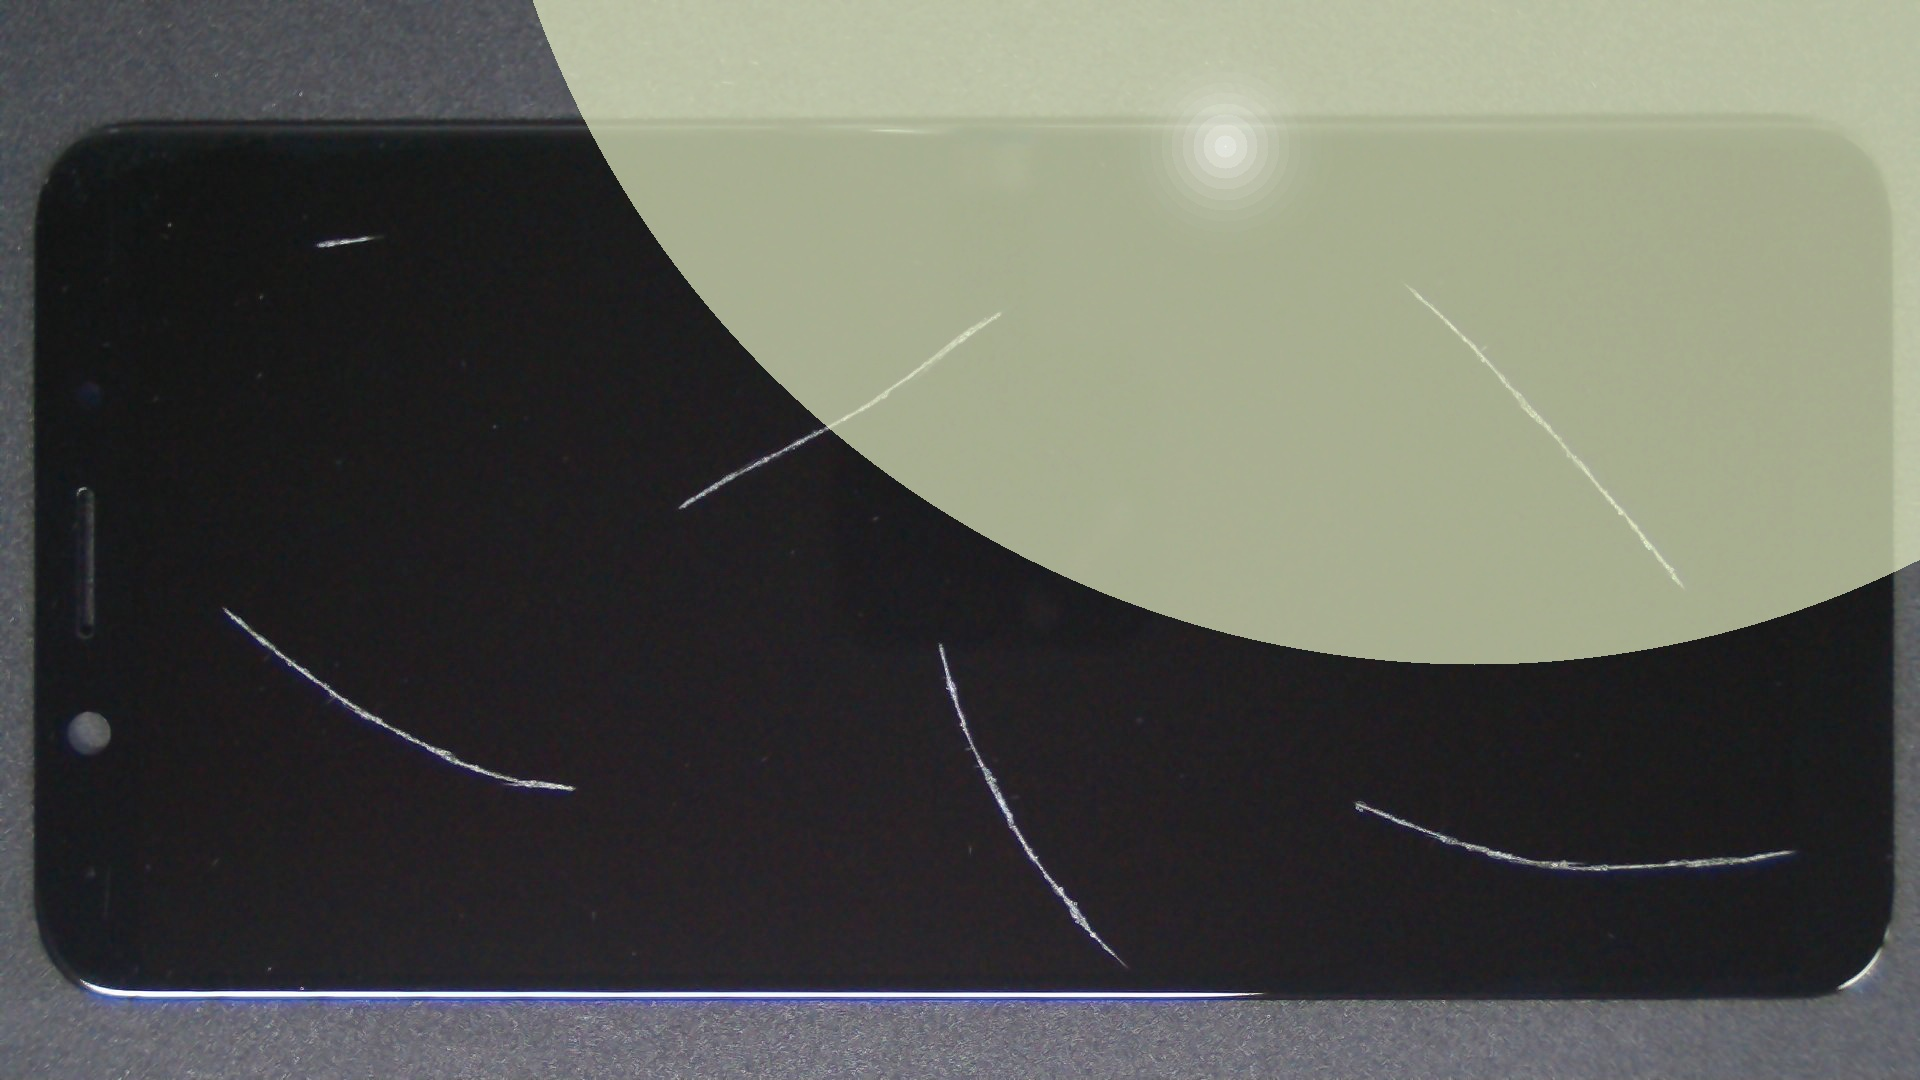oil: (678, 397, 1920, 1080), (469, 320, 1408, 965), (699, 138, 1920, 427), (502, 156, 1505, 467), (112, 302, 334, 910), (185, 117, 551, 355)
